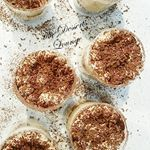other: (12, 49, 77, 113)
